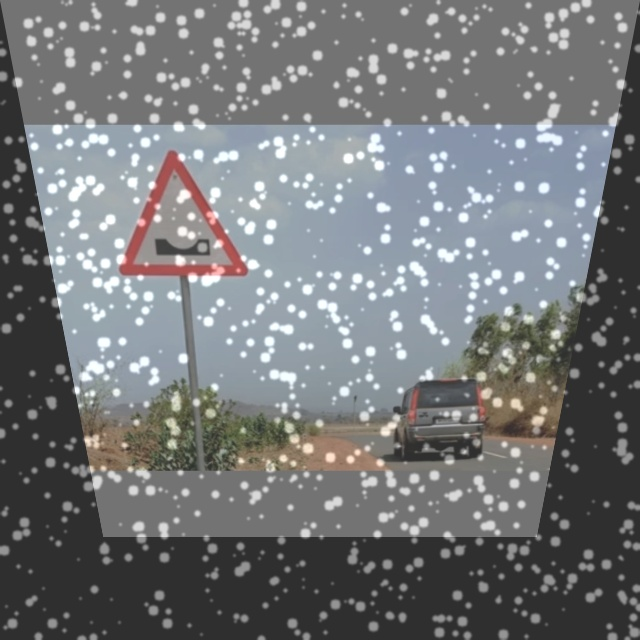Dangerous_Dip: (100, 148, 248, 277)
